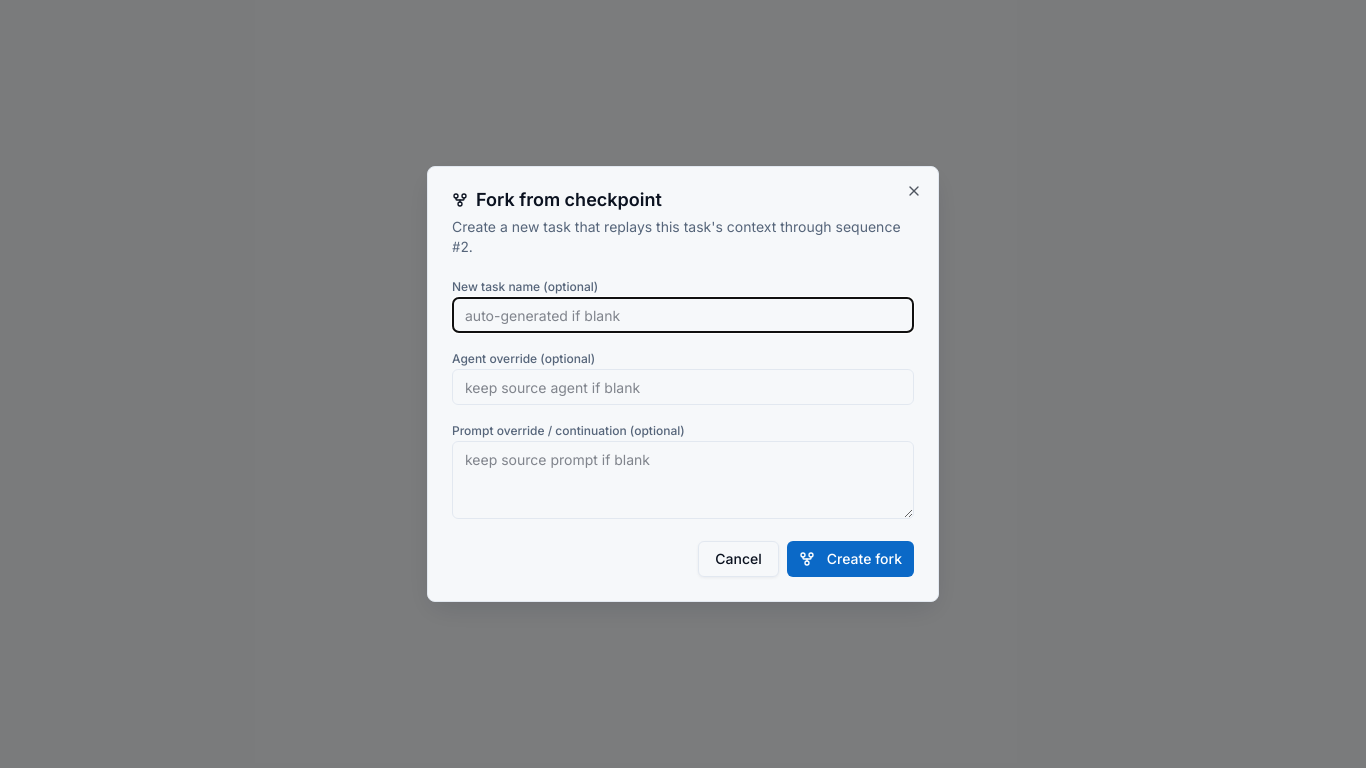
Scenario: ForkDialog › sends an Idempotency-Key header and reuses it across retries of one submission
Click the button "Create fork" at (850, 559), box x1=787 y1=541 x2=914 y2=577
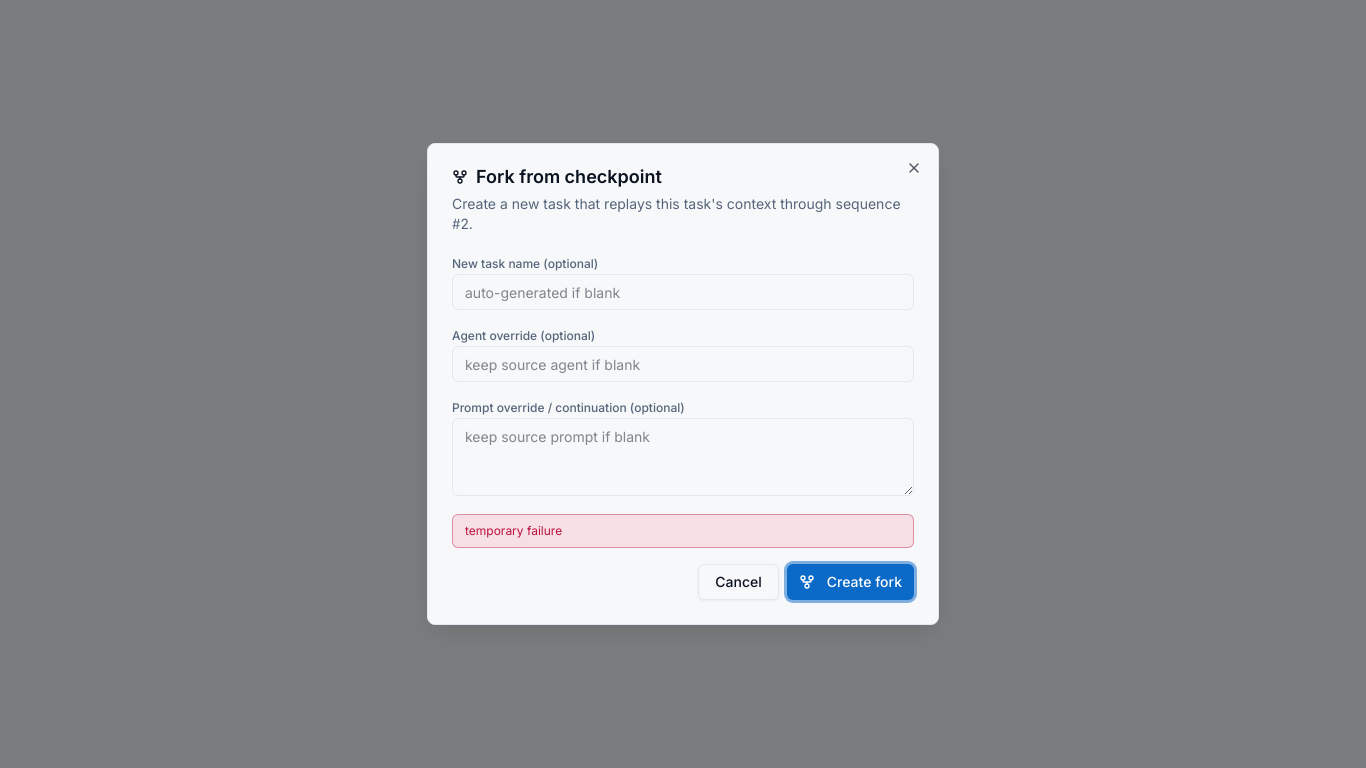
expect the text "temporary failure" is shown: met, box x1=452 y1=514 x2=914 y2=548
# Retry the same submission.
Click the button "Create fork" at (850, 582), box x1=787 y1=564 x2=914 y2=600
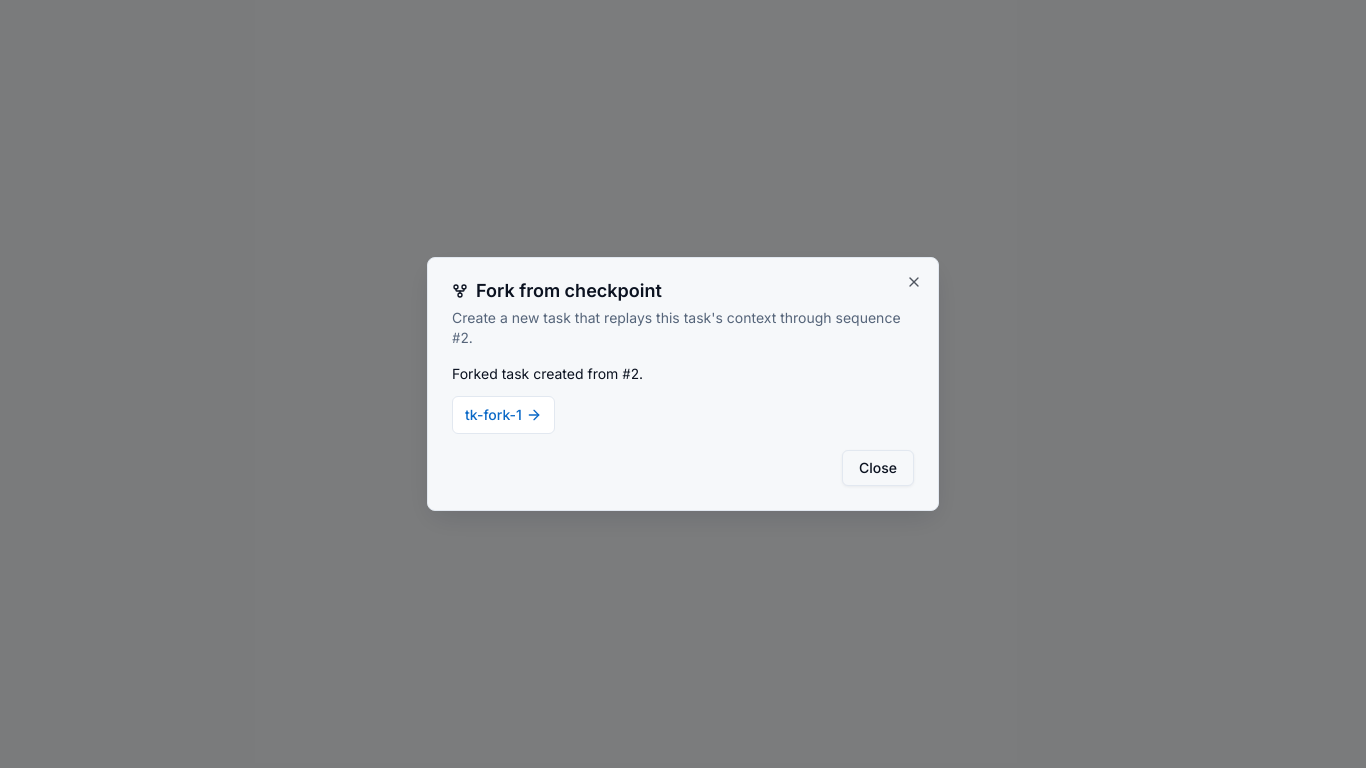
expect the link "tk-fork-1" is shown: met, box x1=452 y1=396 x2=555 y2=434
